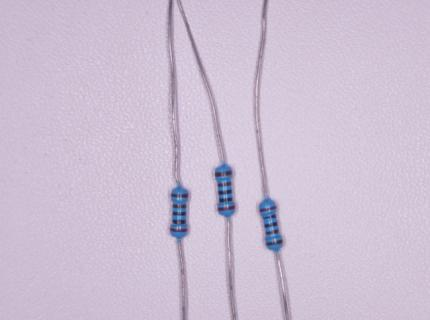Black band: (218, 189, 232, 195), (264, 222, 278, 228), (262, 214, 276, 220), (172, 211, 186, 216), (173, 219, 186, 224), (219, 198, 233, 202)
Brown band: (265, 240, 283, 246), (215, 171, 232, 177), (171, 193, 188, 198), (265, 229, 279, 235), (218, 182, 232, 187), (173, 204, 186, 209)
Red band: (259, 205, 277, 212), (218, 206, 235, 211), (170, 228, 187, 232)
